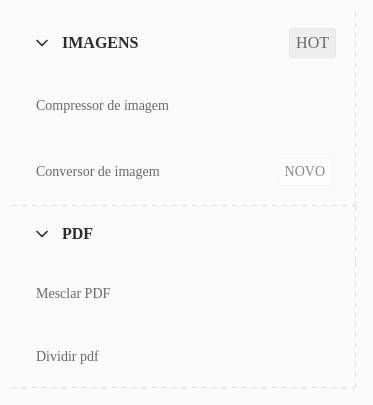
Test: AppMenu › collapses and expands a group when clicking its header
Expected: the text "Compressor de imagem" is shown, [36,94,169,117]
Click the button "IMAGENS HOT": (100, 42) [12,12,356,74]
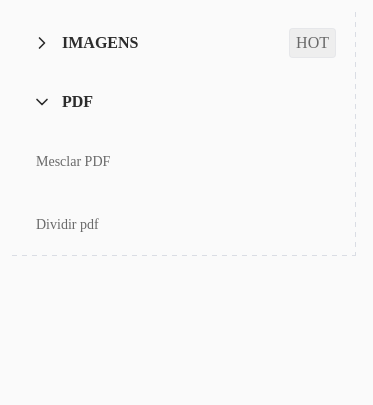
Expected: the text "Mesclar PDF" is shown, [36,150,110,173]
Result: the link "Compressor de imagem" is gone
Result: the link "Conversor de imagem" is gone
Click the button "IMAGENS HOT": (100, 42) [12,12,356,74]
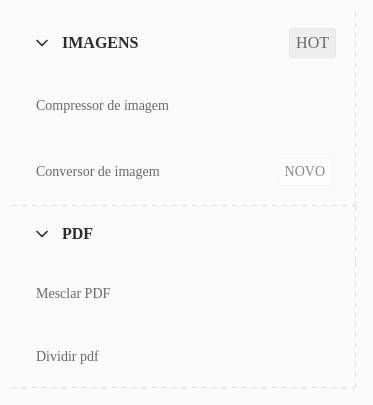
Result: the text "Compressor de imagem" is shown at [36,94,169,117]
